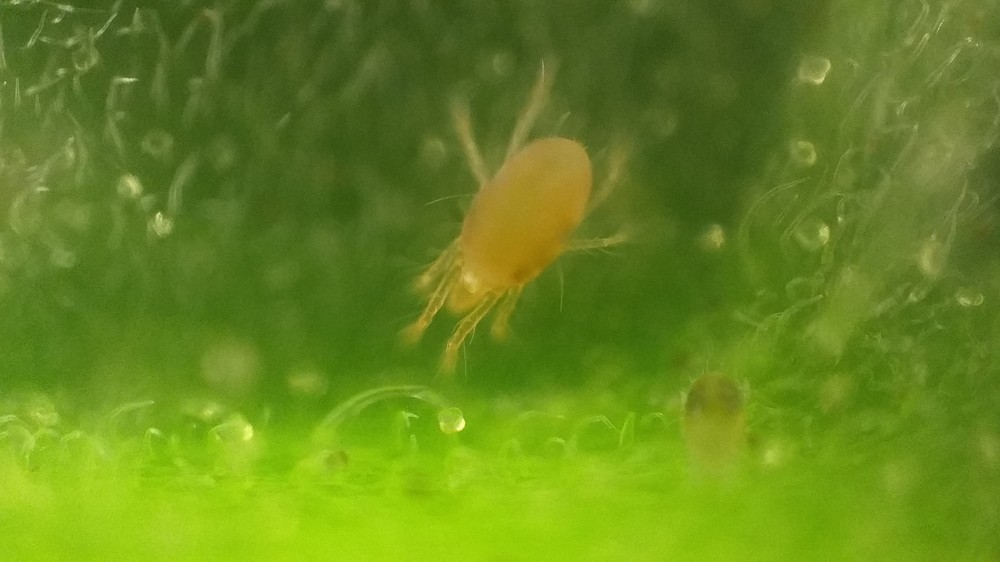Aracnido Rojo: (342, 40, 654, 386)
